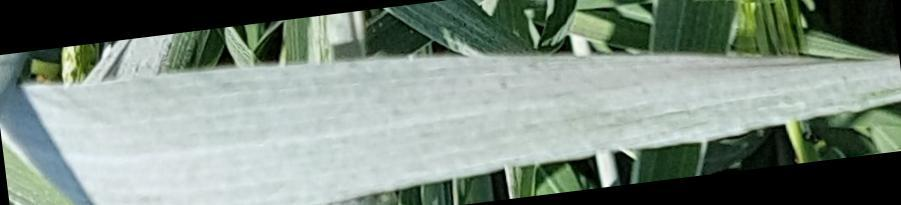Wheat: (51, 70, 893, 203)
